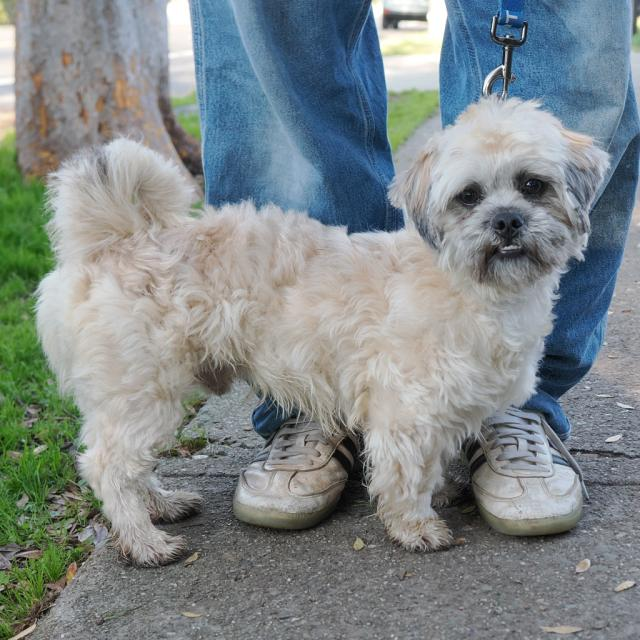shih_tzu_dog: (382, 92, 608, 301)
